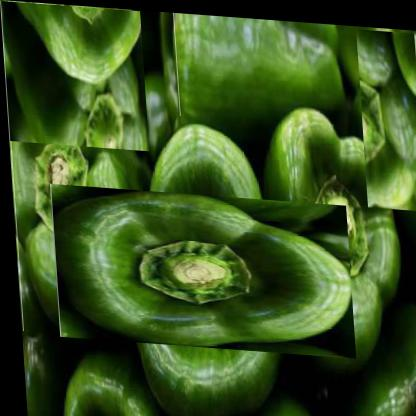capsicum: (82, 150, 319, 389), (5, 68, 143, 340), (261, 105, 402, 362), (0, 0, 148, 150), (173, 10, 347, 124), (355, 23, 415, 207)
